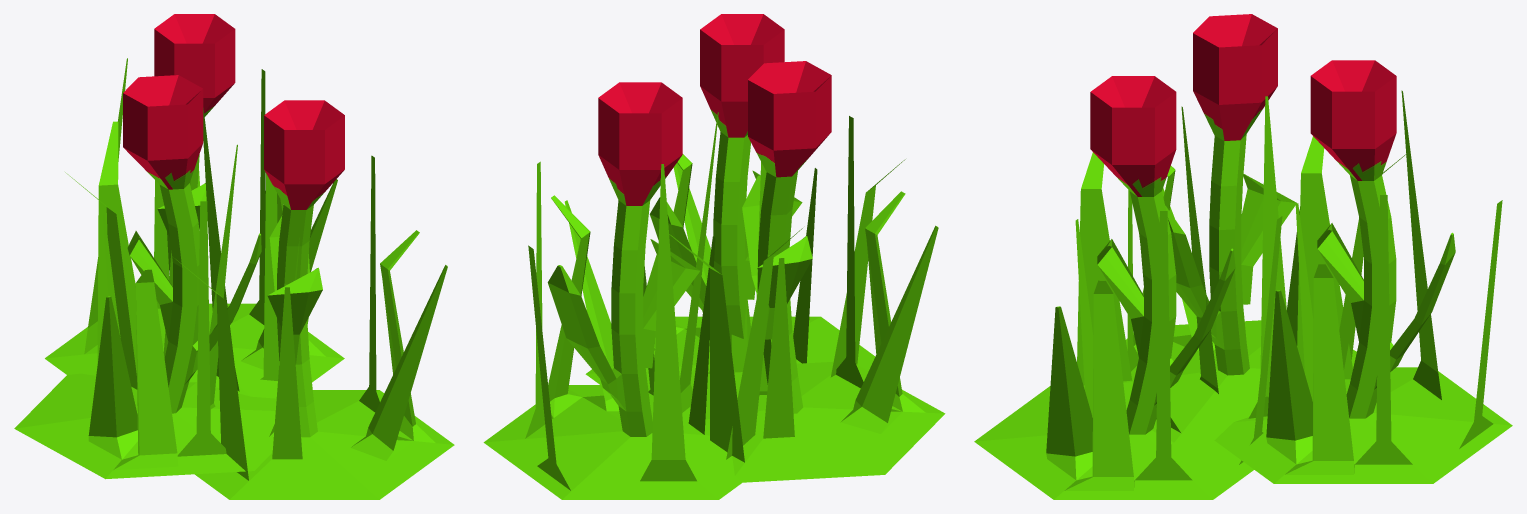
File: FLowers red.fbx
3 renders of one model, left to right at view 1: azimuth 30°, elevation 25°; view 2: azimuth 150°, elevation 25°; view 3: azimuth 270°, elevation 25°, orthographic. The views are drawn at different scales.
Parts seen in each view (by area): view 1: Cylinder.002, Cylinder.001, Cylinder; view 2: Cylinder, Cylinder.002, Cylinder.001; view 3: Cylinder, Cylinder.001, Cylinder.002.
Part boxes in pixels (x1,y1,x2,y2): Cylinder.002: (14,75,299,479); Cylinder.001: (176,100,454,499); Cylinder: (45,14,344,398); Cylinder: (483,82,802,499); Cylinder.002: (668,61,945,482); Cylinder.001: (585,14,905,395); Cylinder: (1214,60,1512,483); Cylinder.001: (974,76,1282,499); Cylinder.002: (1083,14,1406,442).
Size of the model in its own units: 248 by 248 by 334.
